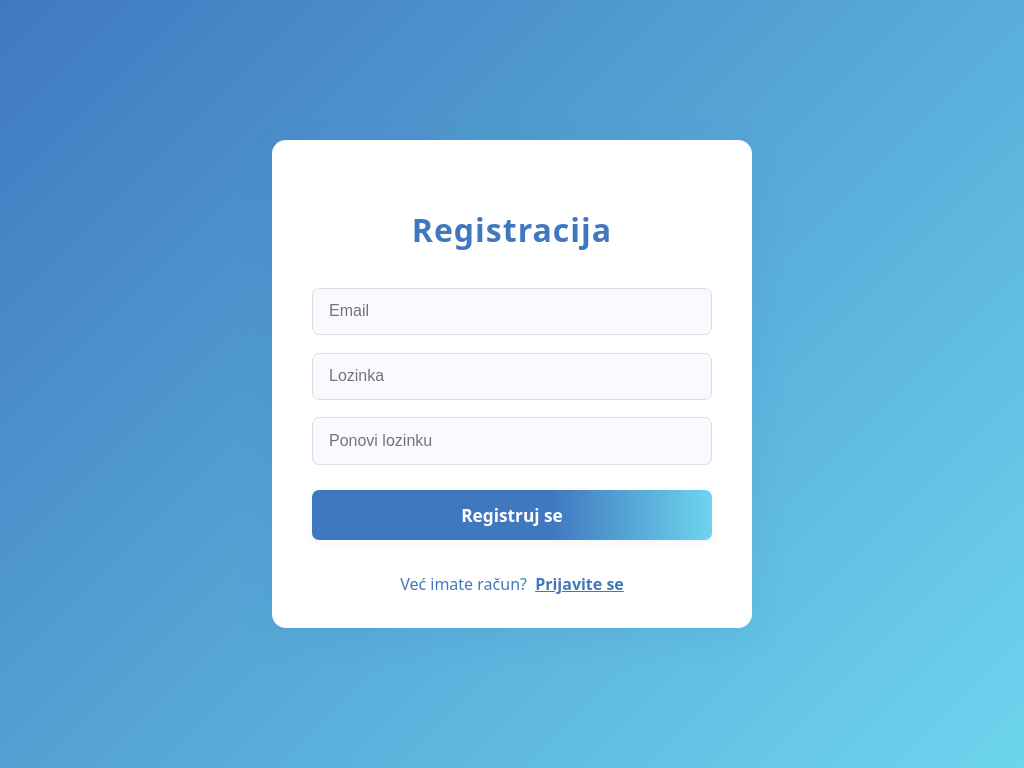
Test: Auth Flow › shows error on invalid email format during registration
Type "invalidemail" into the field named "email".
click(512, 312); type("invalidemail")  # box left=312, top=288, right=712, bottom=335
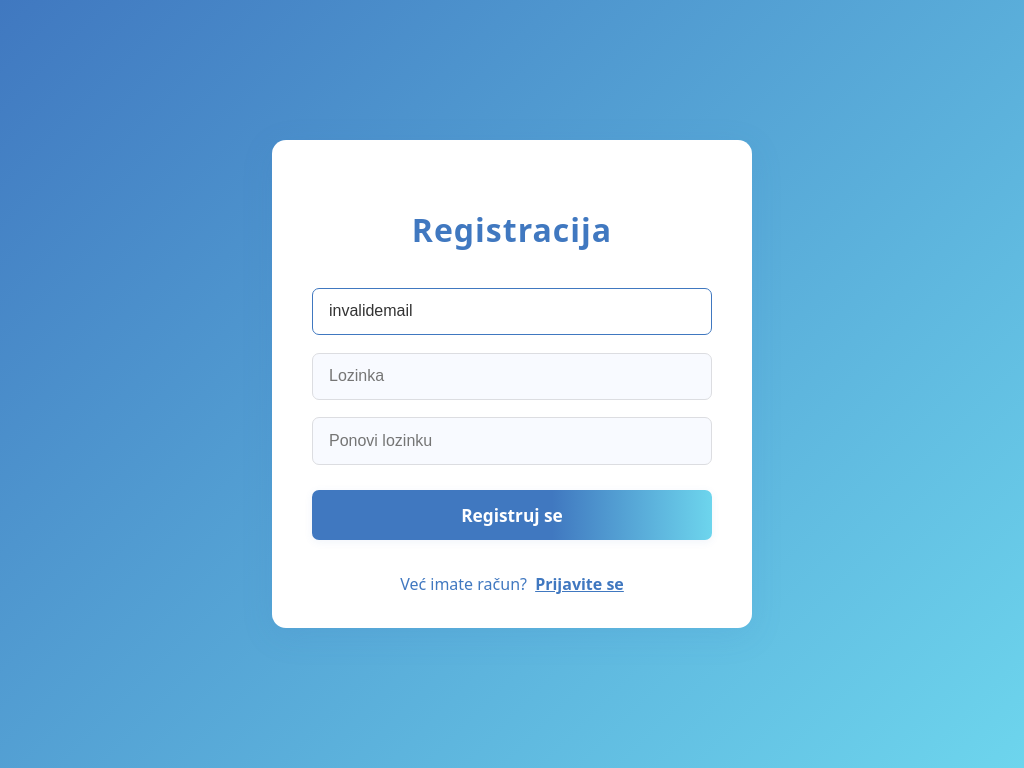
Type "password123" into the password field named "password".
click(512, 377); type("password123")  # box left=312, top=353, right=712, bottom=400
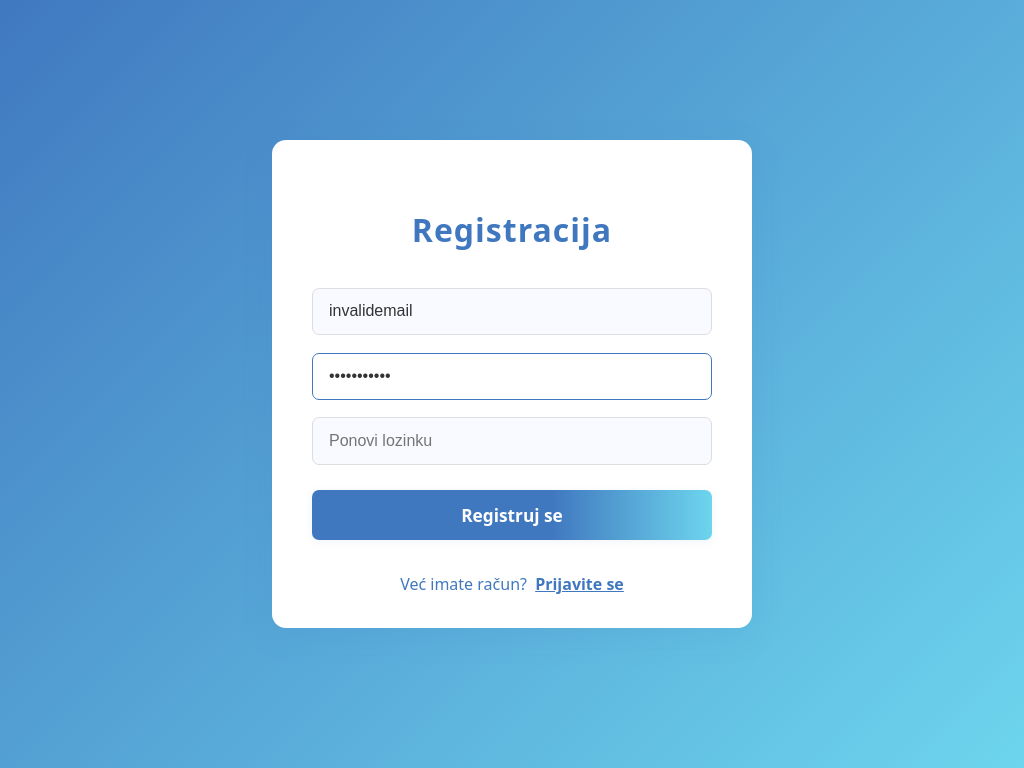
Type "password123" into the password field named "confirmPassword".
click(512, 441); type("password123")  # box left=312, top=417, right=712, bottom=464
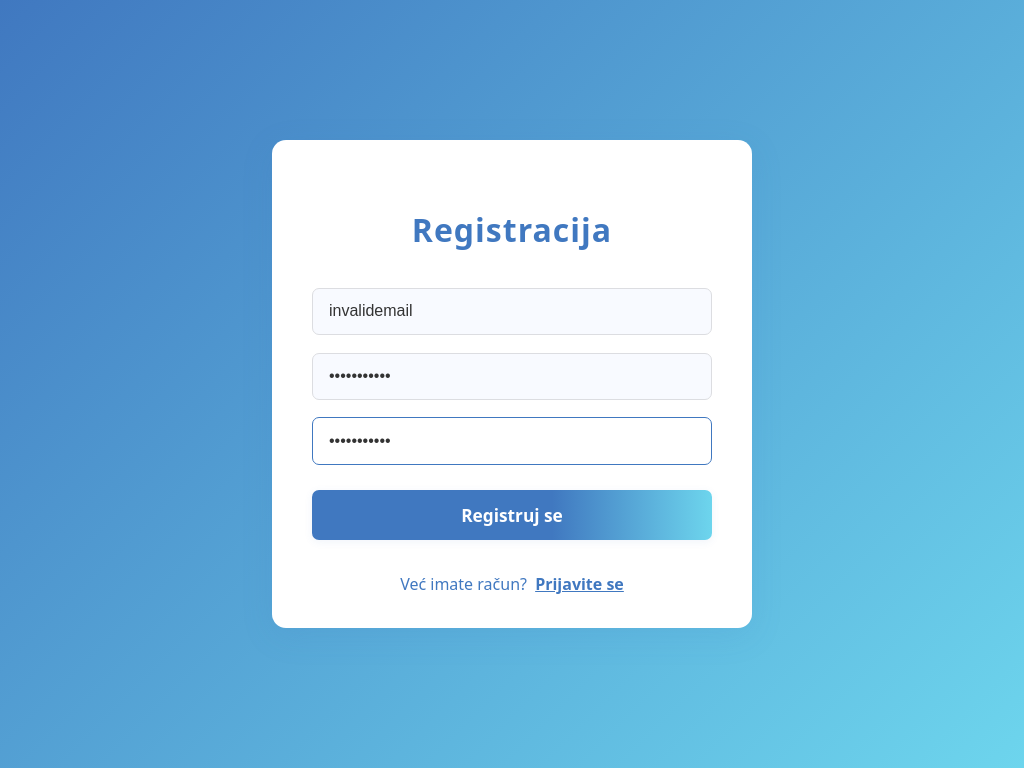
Click the submit button.
click(512, 515)  # box left=312, top=490, right=712, bottom=540
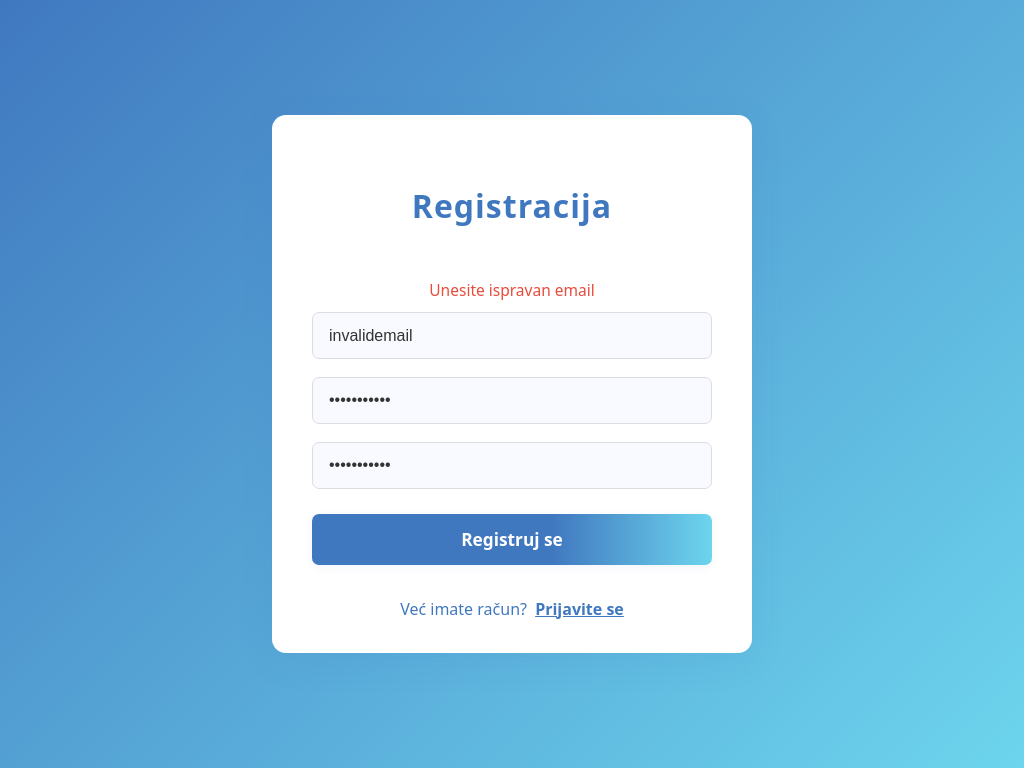
Result: the text "Unesite ispravan email" is shown at left=429, top=279, right=595, bottom=301
